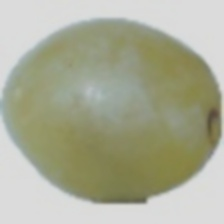grapes: (41, 35, 222, 206)
